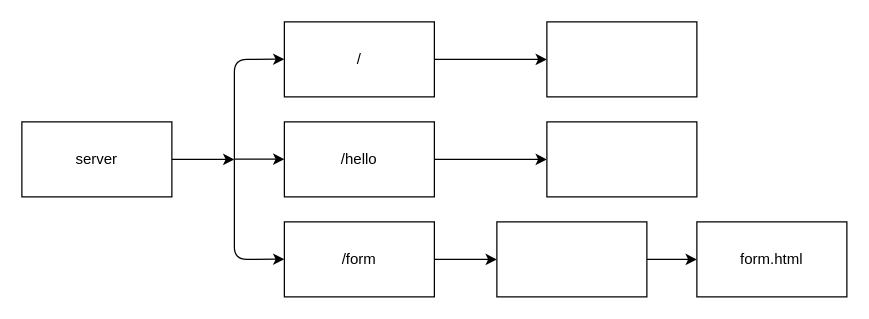
The diagram is 869 pixels wide and 319 high, and some of its shapes have lost their labels. Here are the shapes that lost their labels. From the top down, the centre of each, then its label:
At (x=621, y=59): "index.html".
At (x=621, y=159): "hello func".
At (x=571, y=259): "form func".
